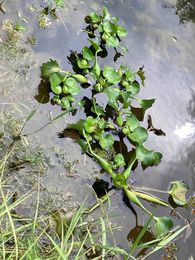water_hyacinth: (31, 5, 195, 241)
